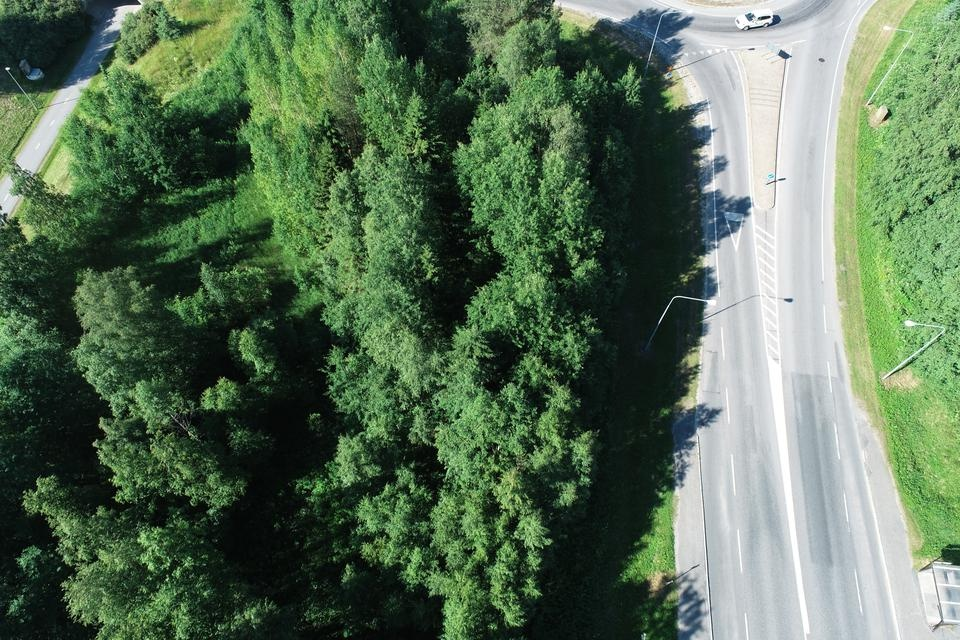roundabout: (476, 0, 919, 115)
